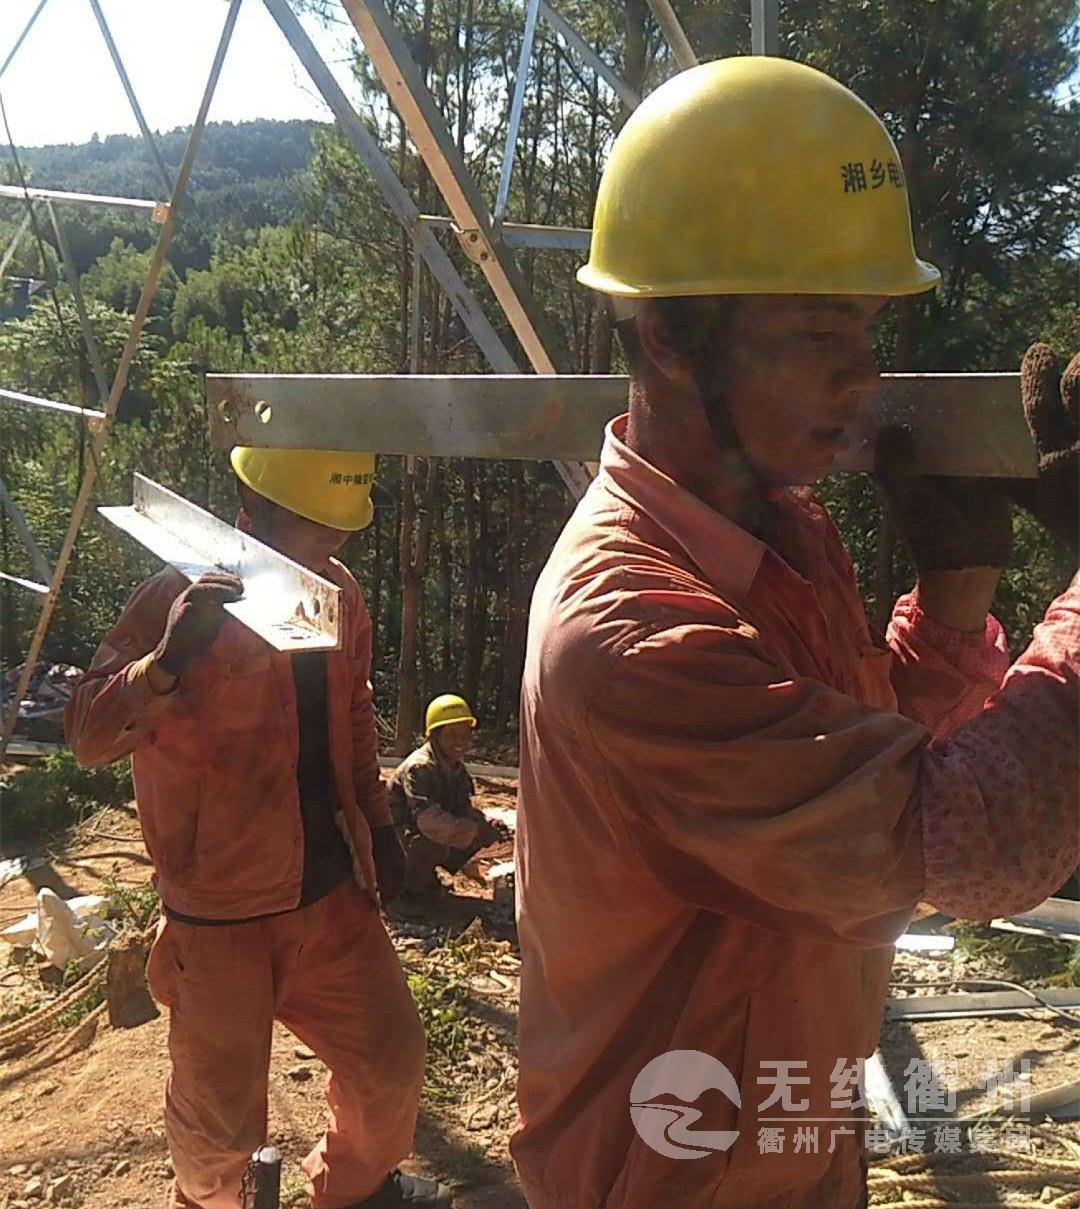safetyhat: (467, 28, 1044, 1087)
